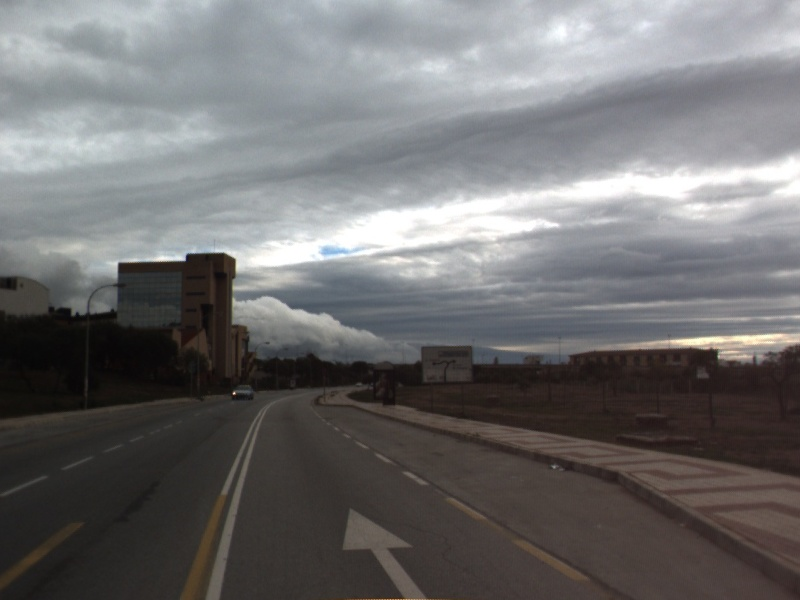STRAIGHT: (339, 504, 436, 600)
